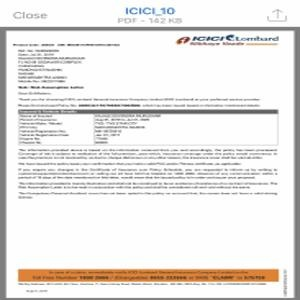image: (172, 33, 282, 52)
table: (16, 107, 281, 144)
text: (10, 38, 263, 107), (17, 146, 280, 201)
